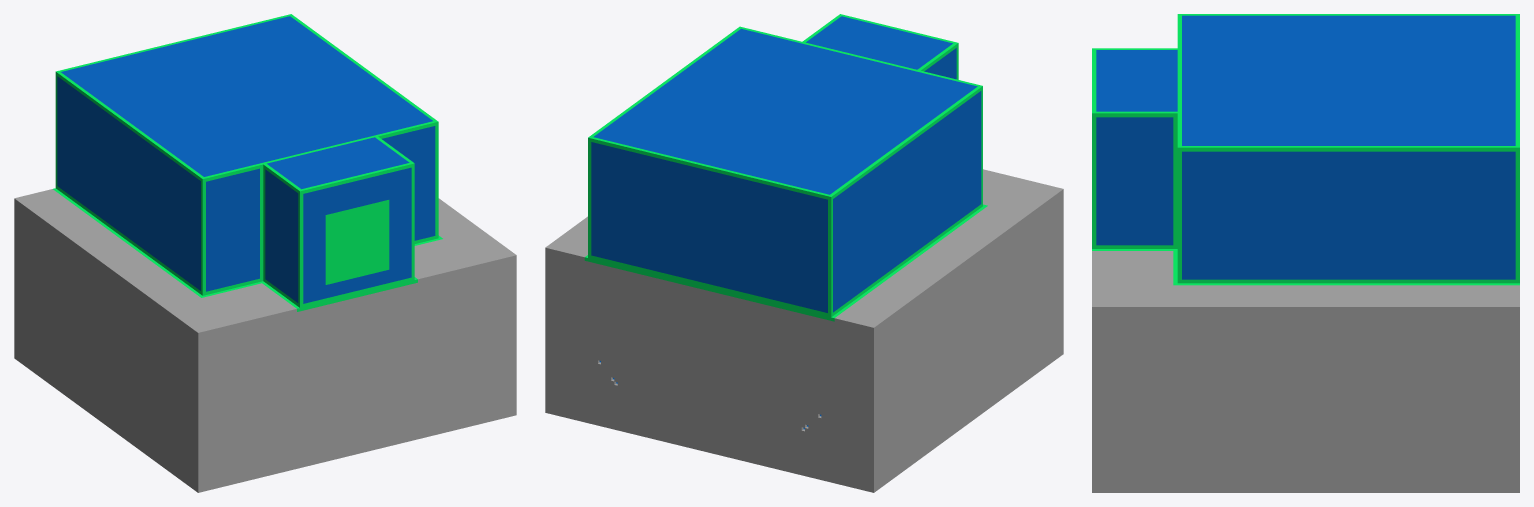
The model's file is AttackCarrierBody.fbx.
3 renders of one model, left to right at view 1: azimuth 30°, elevation 25°; view 2: azimuth 150°, elevation 25°; view 3: azimuth 270°, elevation 25°, orthographic. The views are drawn at different scales.
Visible parts, largest first — view 1: AttackCarrier:Mesh; view 2: AttackCarrier:Mesh; view 3: AttackCarrier:Mesh.
Part boxes in pixels (x1=…): AttackCarrier:Mesh: x1=14, y1=14, x2=516, y2=492; AttackCarrier:Mesh: x1=545, y1=14, x2=1063, y2=492; AttackCarrier:Mesh: x1=1092, y1=14, x2=1519, y2=492.
Bounding box in the file's own units: 13.97 × 11.59 × 13.97.
Materials: 1 (1 with a texture image).
